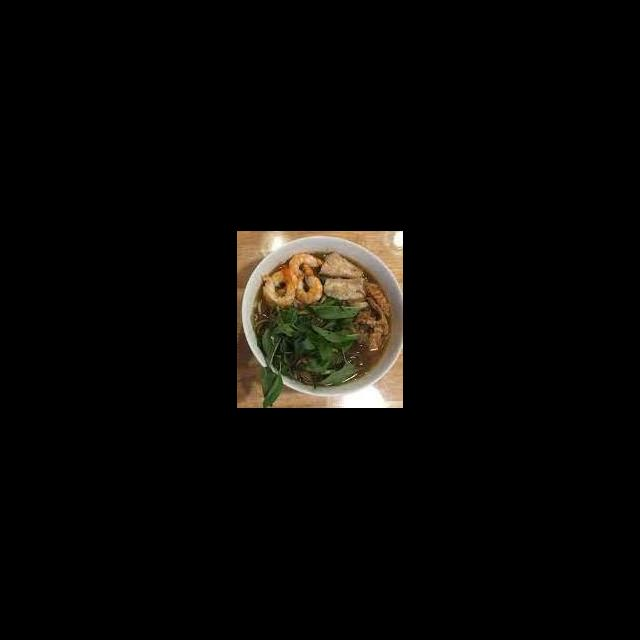ca: (317, 250, 367, 280), (320, 274, 368, 302)
tom: (260, 262, 299, 308), (292, 262, 325, 306), (287, 250, 324, 282)
